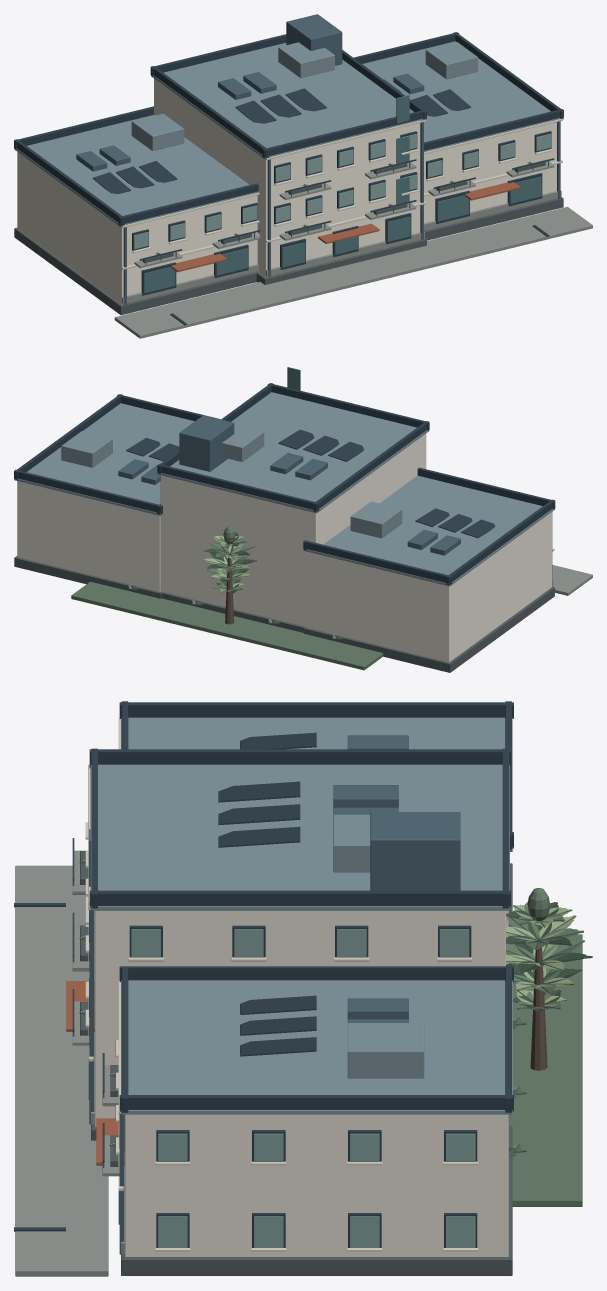
File: residence.glb
3 views of the same model, one above another, from view 1: azimuth 30°, elevation 25°; view 2: azimuth 150°, elevation 25°; view 3: azimuth 270°, elevation 25° (orthographic). The views are drawn at different scales.
Visible parts, largest first — view 1: building.residence.t2; view 2: building.residence.t2; view 3: building.residence.t2.
Part boxes in pixels (x1,y1,x2,y2): building.residence.t2: [14, 14, 592, 338]; building.residence.t2: [14, 367, 592, 672]; building.residence.t2: [14, 701, 592, 1276].
Size of the model in its own units: 1.93 by 0.6628 by 1.16.
